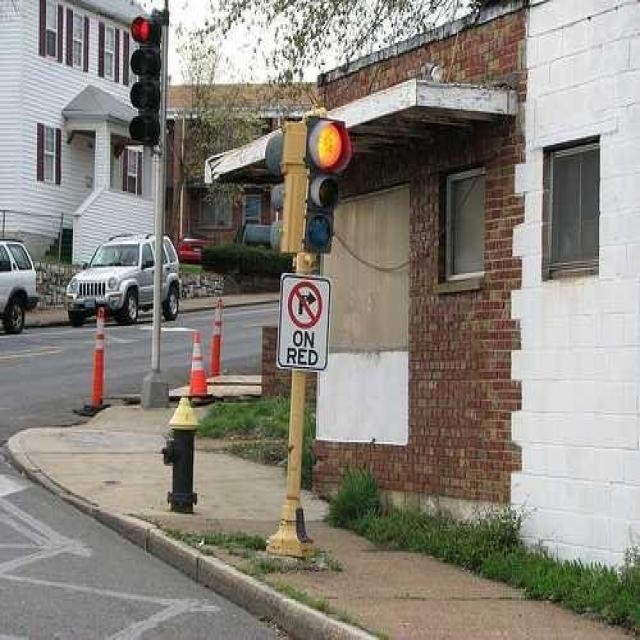Traffic Light -Red-: (298, 104, 354, 259), (128, 13, 166, 148)
Traffic Light -Yellow-: (293, 505, 310, 545)
